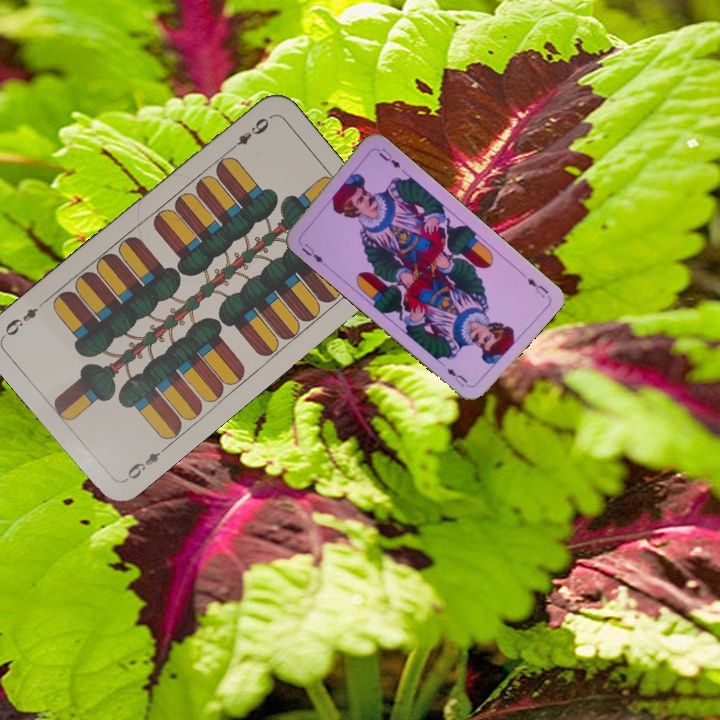E9: (224, 112, 273, 155), (120, 442, 170, 484)
EU: (294, 236, 326, 265), (523, 274, 551, 300)
